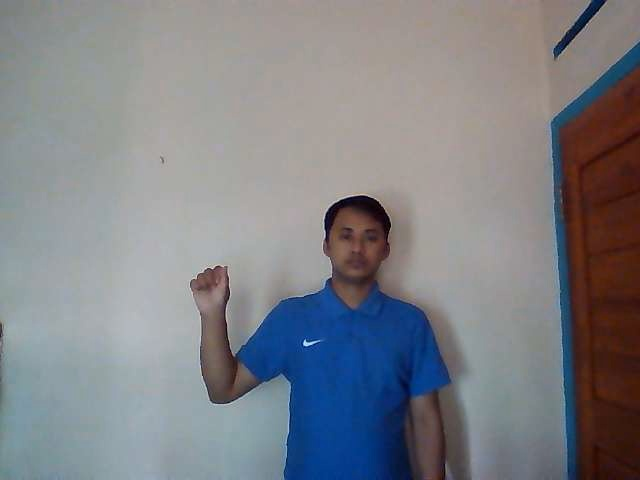A: (189, 265, 231, 314)
